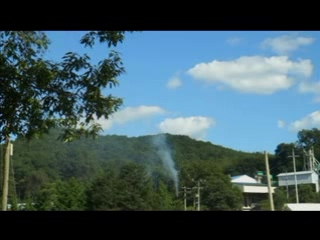smoke: (136, 133, 183, 197)
